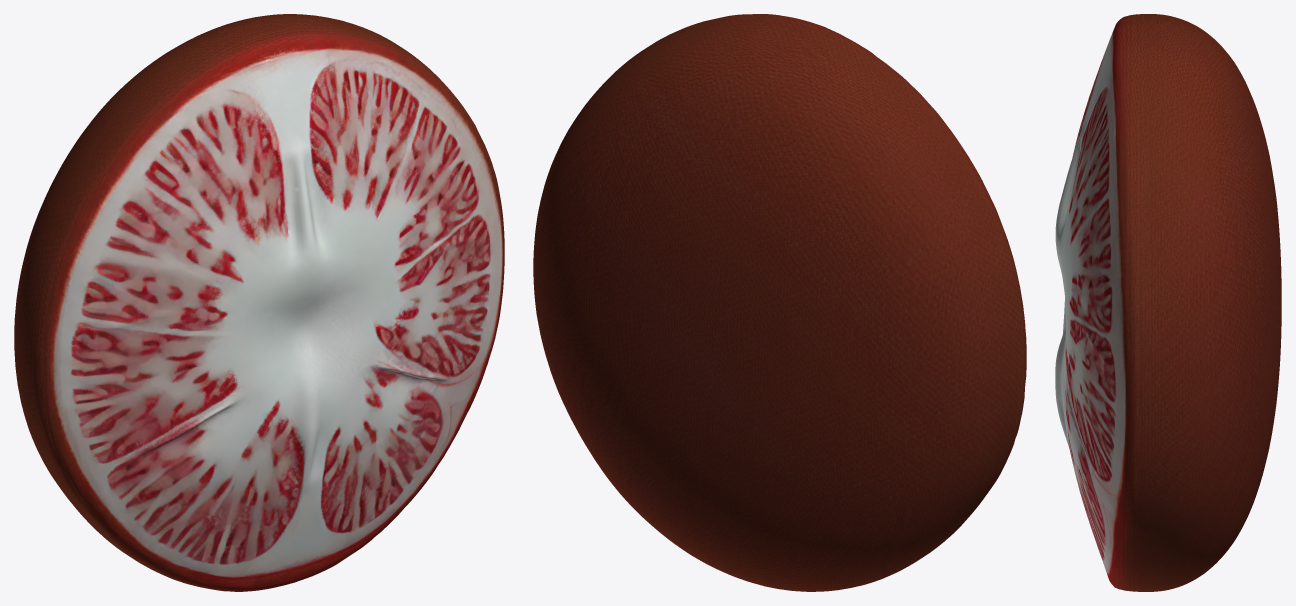
File: vet_v2_organ_dog_spleen.glb
The picture shows the model from 3 angles, left to right: view 1: azimuth 30°, elevation 25°; view 2: azimuth 150°, elevation 25°; view 3: azimuth 270°, elevation 25°; orthographic projection. The views are drawn at different scales.
Parts seen in each view (by area): view 1: model; view 2: model; view 3: model.
Part boxes in pixels (left/top/right/bottom): model: left=14, top=14, right=504, bottom=591; model: left=533, top=14, right=1026, bottom=591; model: left=1055, top=14, right=1281, bottom=591.
Bounding box in the file's own units: 1.7 × 1.9 × 0.7272.
Materials: 1 (1 with a texture image).
